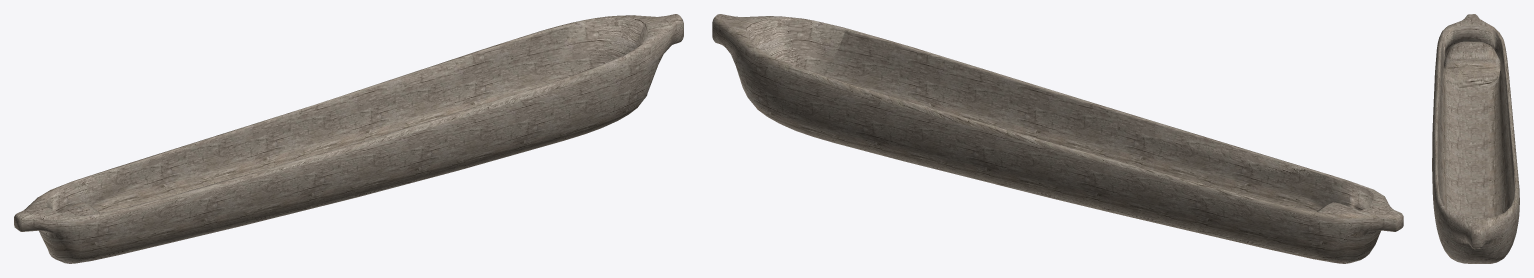
File: pirogue.glb
3 renders of one model, left to right at view 1: azimuth 30°, elevation 25°; view 2: azimuth 150°, elevation 25°; view 3: azimuth 270°, elevation 25°, orthographic. The views are drawn at different scales.
Parts seen in each view (by area): view 1: PirogaLOD00_aiStandardSurface1_0; view 2: PirogaLOD00_aiStandardSurface1_0; view 3: PirogaLOD00_aiStandardSurface1_0.
Boxes of the visible parts, x1,y1,x2,y2 form: PirogaLOD00_aiStandardSurface1_0: [14, 14, 683, 263]; PirogaLOD00_aiStandardSurface1_0: [712, 14, 1403, 263]; PirogaLOD00_aiStandardSurface1_0: [1432, 14, 1519, 263].
Bounding box in the file's own units: 15.66 × 2.09 × 2.38.
Materials: 1 (1 with a texture image).
